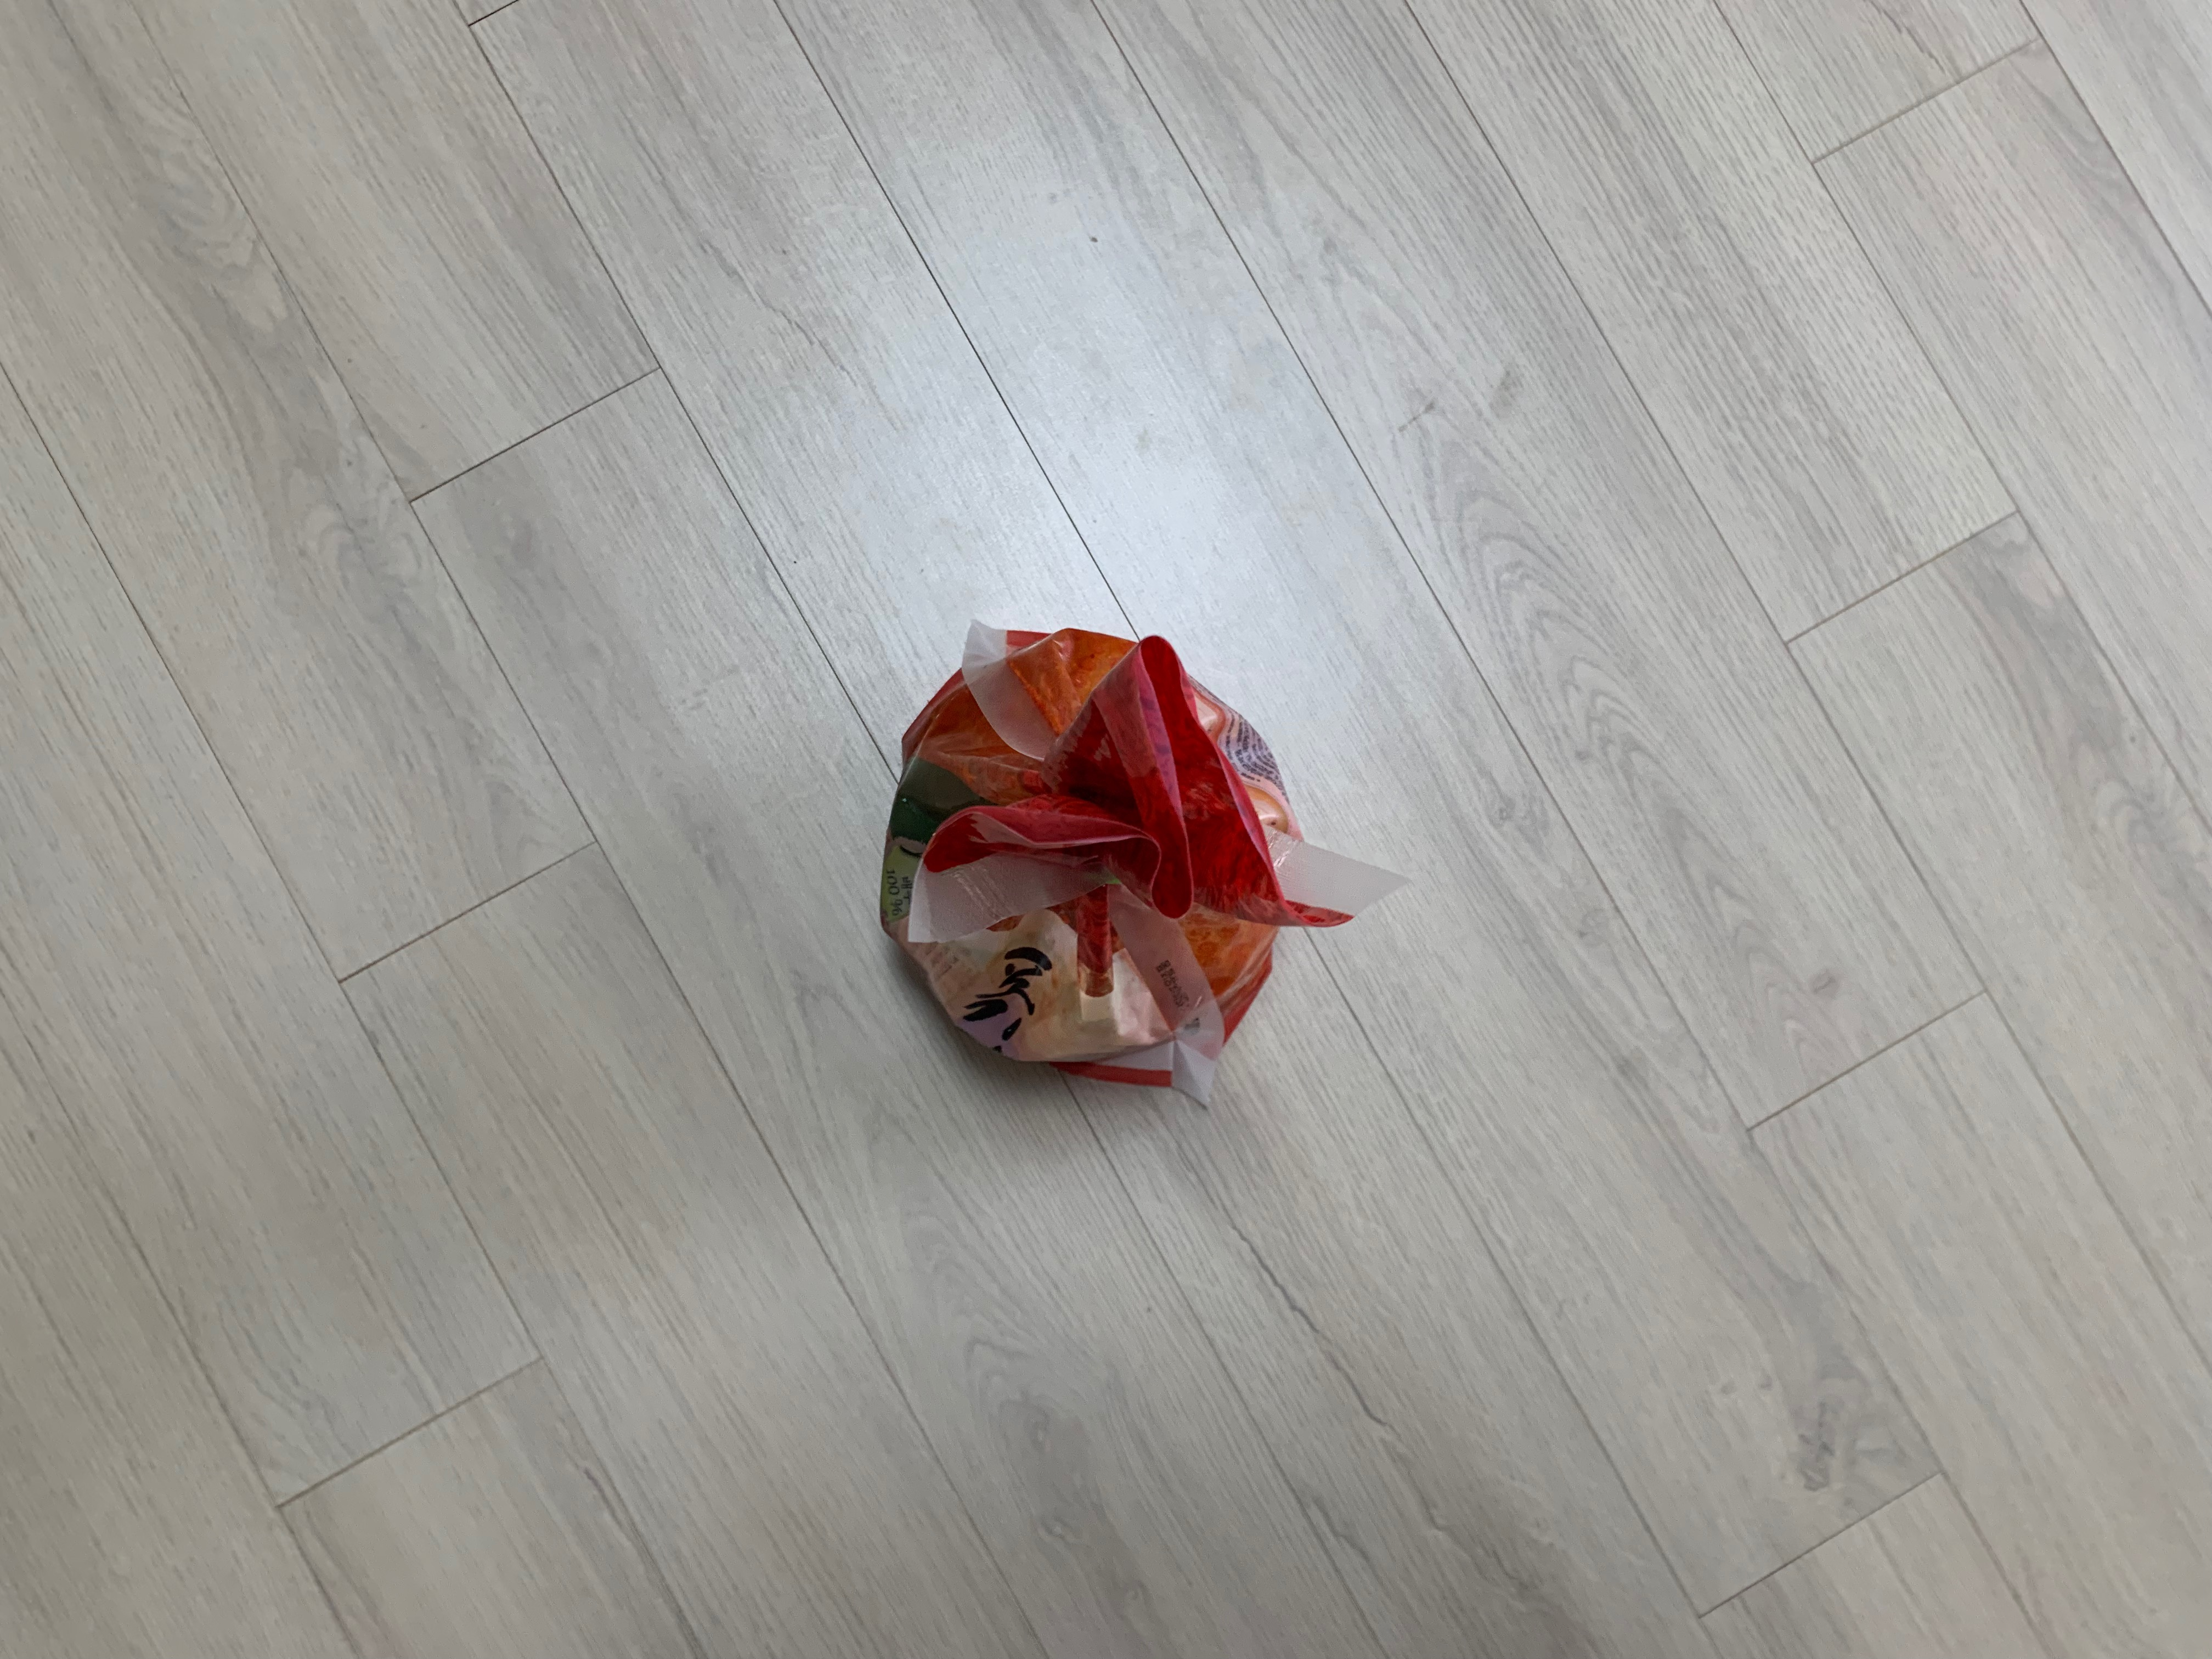kimchi: (878, 627, 1348, 1089)
